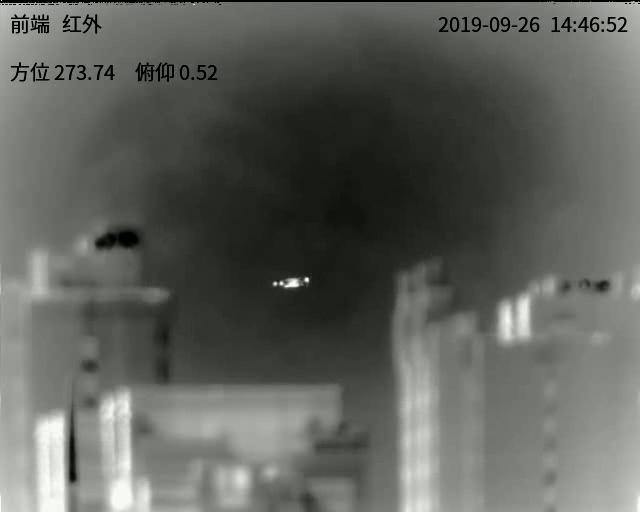DRONE: (271, 275, 310, 289)
